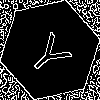Y: (25, 25, 80, 81)
